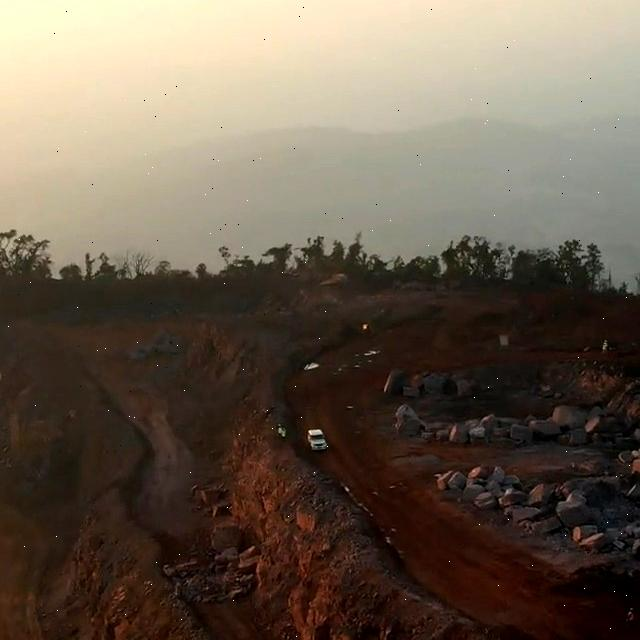car: (304, 429, 331, 452)
person: (275, 424, 292, 440)
